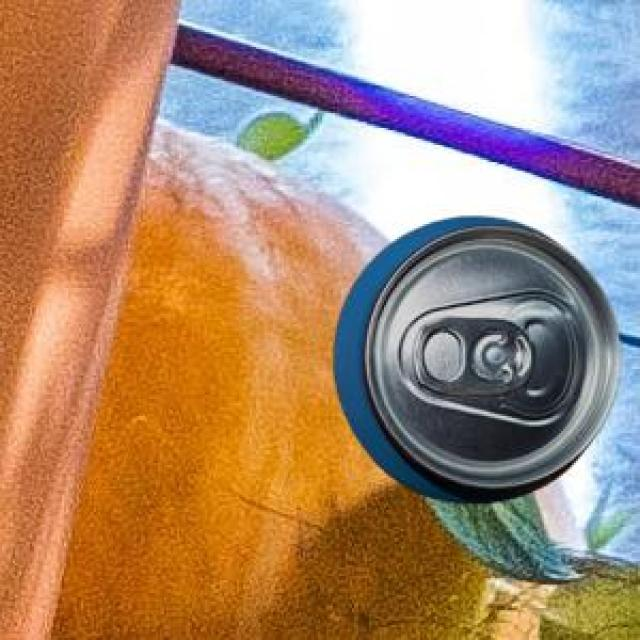logam: (332, 214, 618, 500)
